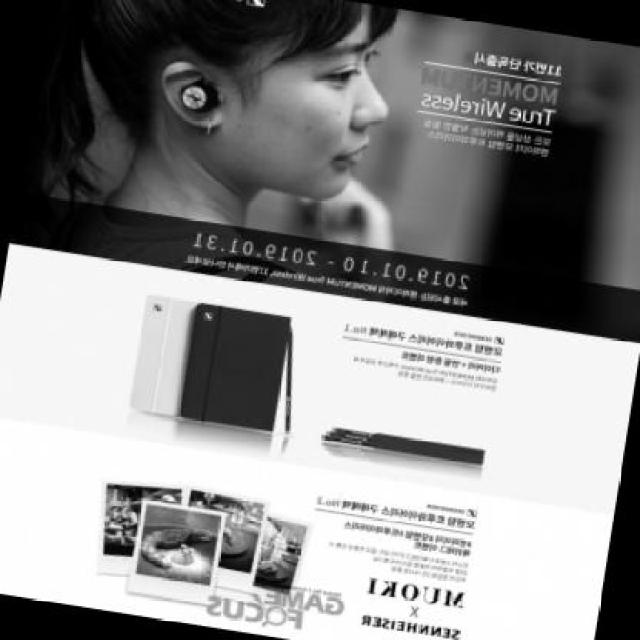earphone: (174, 78, 244, 129)
